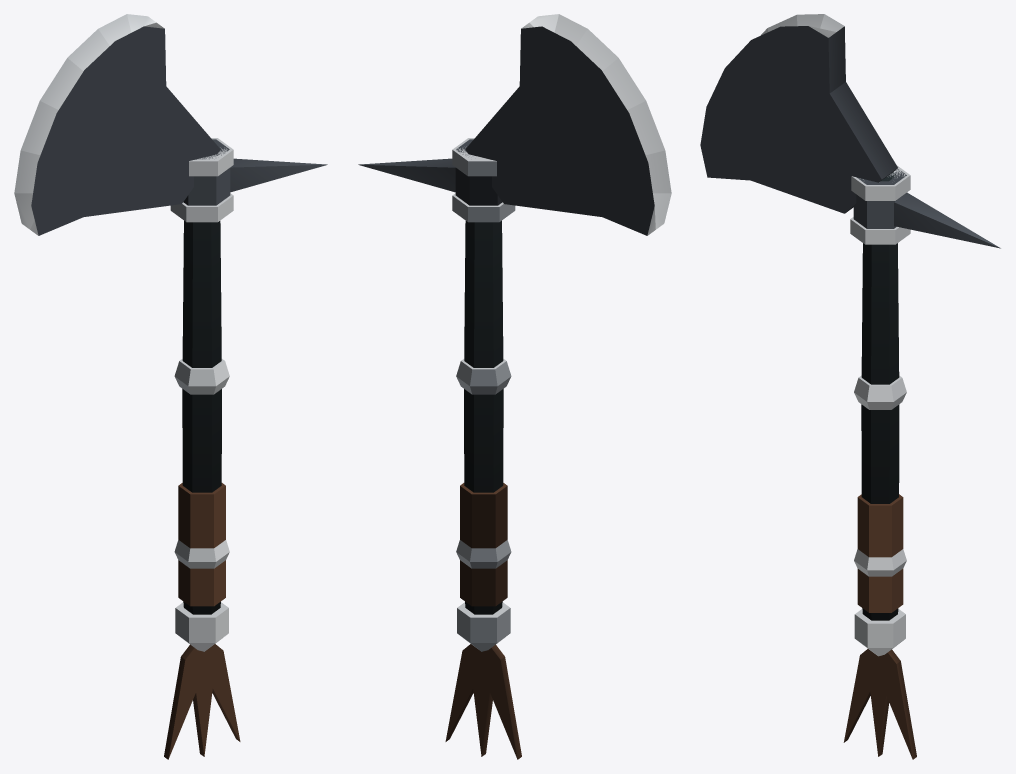
The model's file is barb_throwing_2.gltf.
3 renders of one model, left to right at view 1: azimuth 30°, elevation 25°; view 2: azimuth 150°, elevation 25°; view 3: azimuth 330°, elevation 25°, orthographic. The views are drawn at different scales.
Visible parts, largest first — view 1: barb_throwing_2; view 2: barb_throwing_2; view 3: barb_throwing_2.
Boxes of the visible parts, x1=… form: barb_throwing_2: x1=14, y1=14, x2=327, y2=759; barb_throwing_2: x1=358, y1=14, x2=671, y2=759; barb_throwing_2: x1=700, y1=14, x2=1000, y2=759.
Size of the model in its own units: 0.6288 by 1.48 by 0.112.
Materials: 1 (1 with a texture image).
